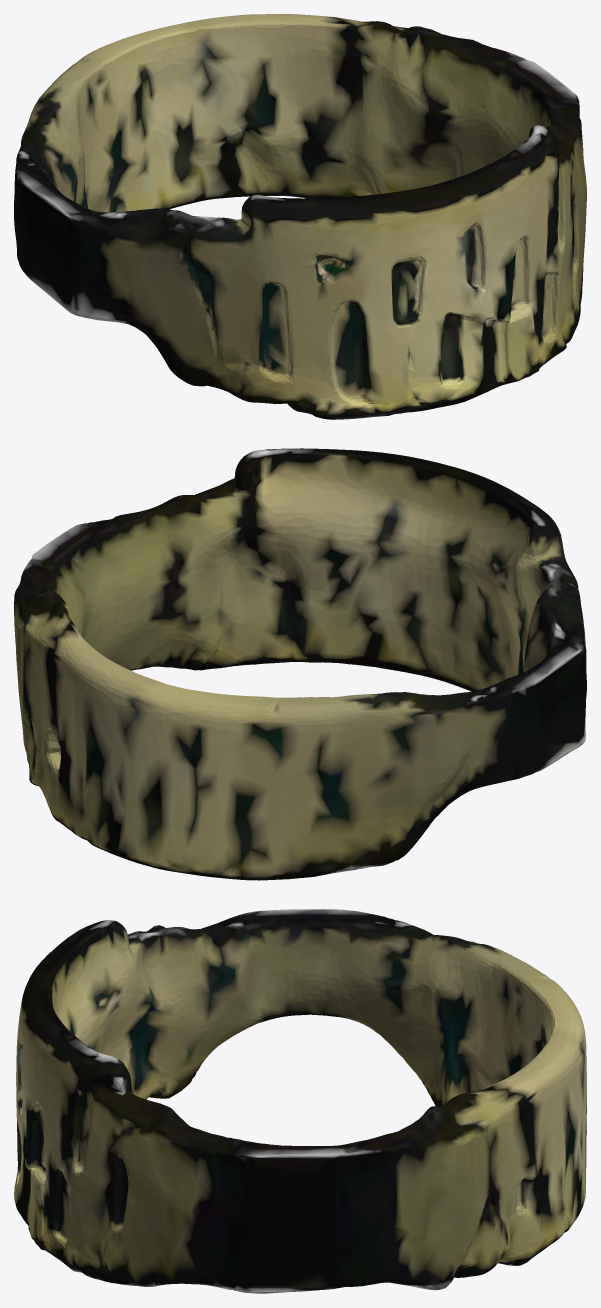
Rendered from spiked_pit.glb.
The picture shows the model from 3 angles, top to bottom: view 1: azimuth 30°, elevation 25°; view 2: azimuth 150°, elevation 25°; view 3: azimuth 270°, elevation 25°; orthographic projection.
Visible parts, largest first — view 1: geometry_0; view 2: geometry_0; view 3: geometry_0.
Part boxes in pixels (x1,y1,x2,y2): geometry_0: (14, 14, 586, 419); geometry_0: (14, 448, 586, 880); geometry_0: (14, 909, 586, 1293).
Size of the model in its own units: 1 by 0.4033 by 0.9811.
